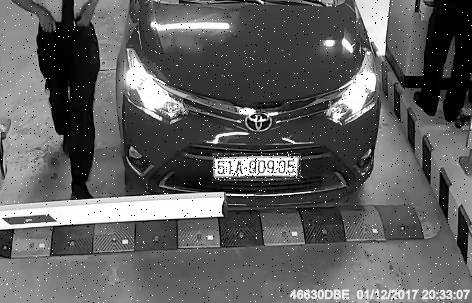License-plate: (214, 154, 304, 182)
